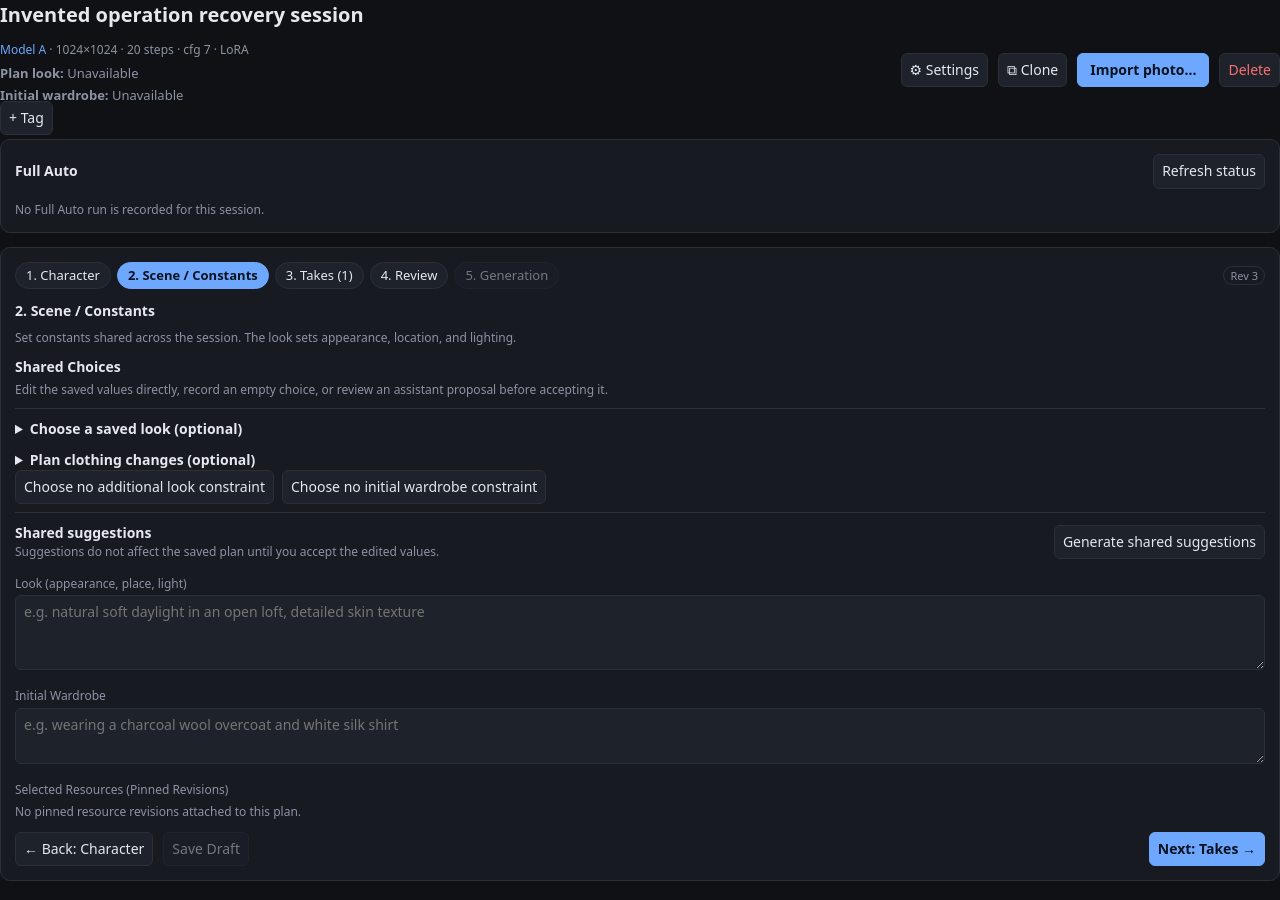
Test: Task 8.4 independent transport and identity probes › shared suggestions keeps the frozen request after a 500 with a valid error body
Click the button "Generate shared suggestions". click: x=1159, y=542
box: [1054,525,1265,559]
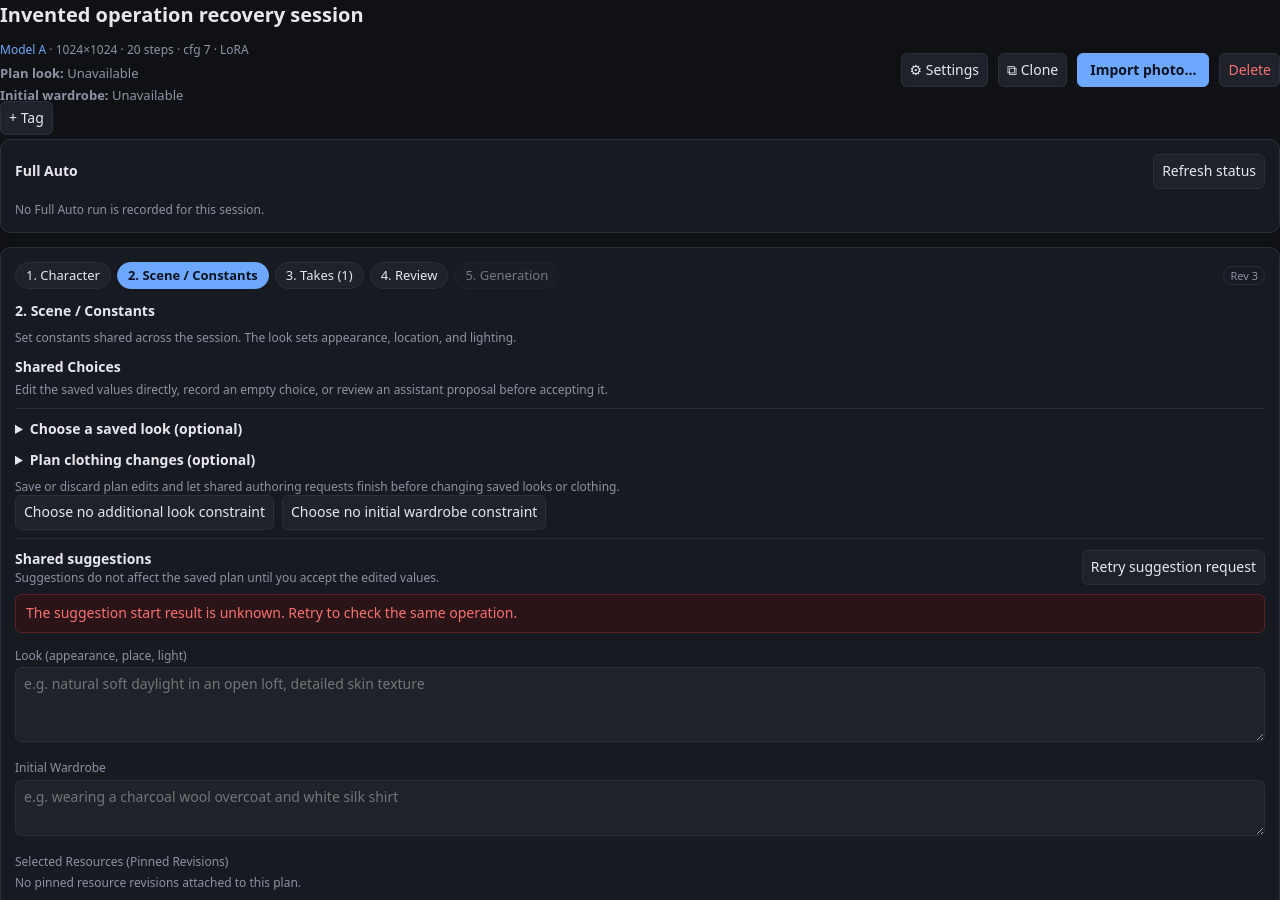
Click the button "Retry suggestion request". click: x=1173, y=567
box: [1082,550,1265,585]
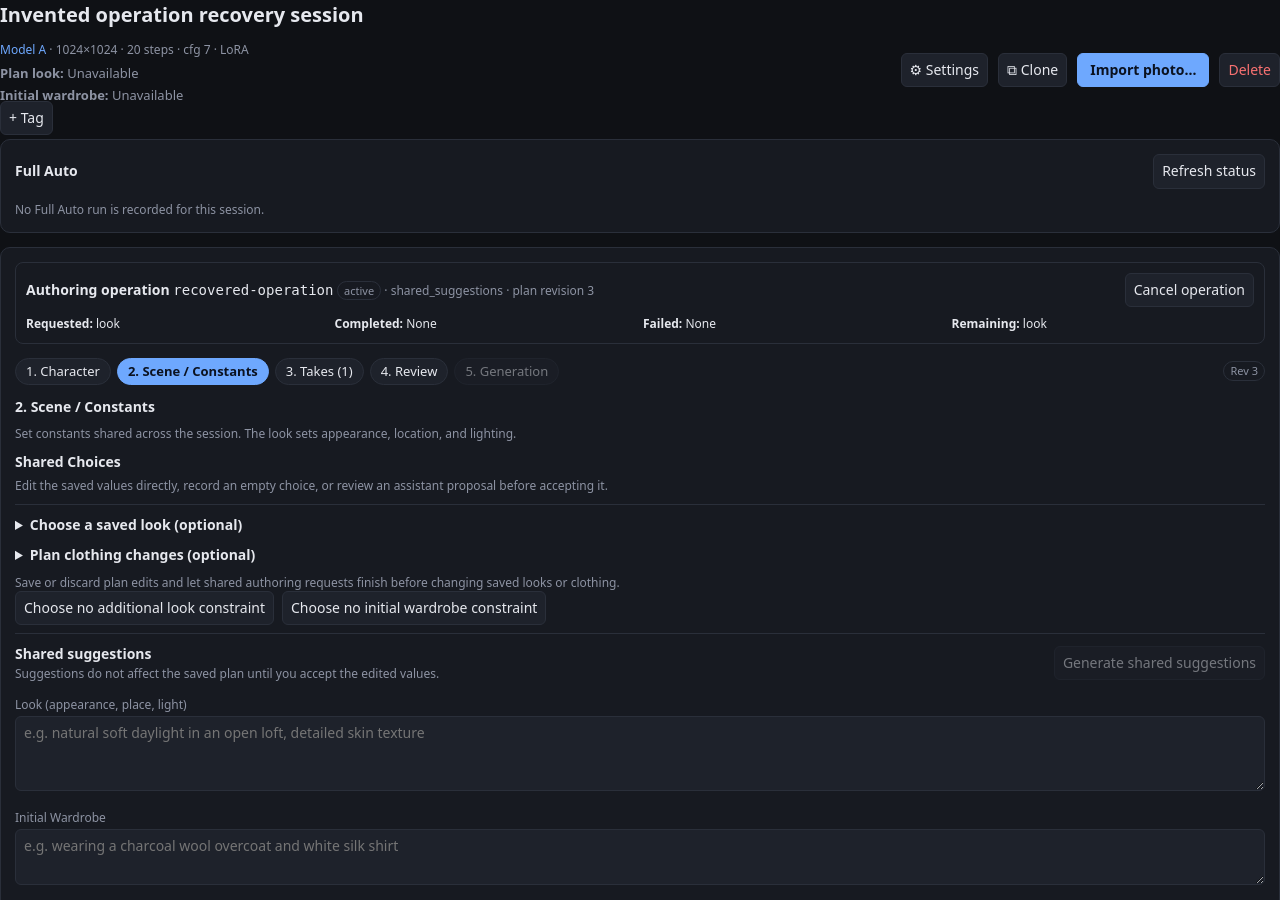
Check: the element named "Authoring operation" shows "recovered-operation", box [173,282,334,298]
